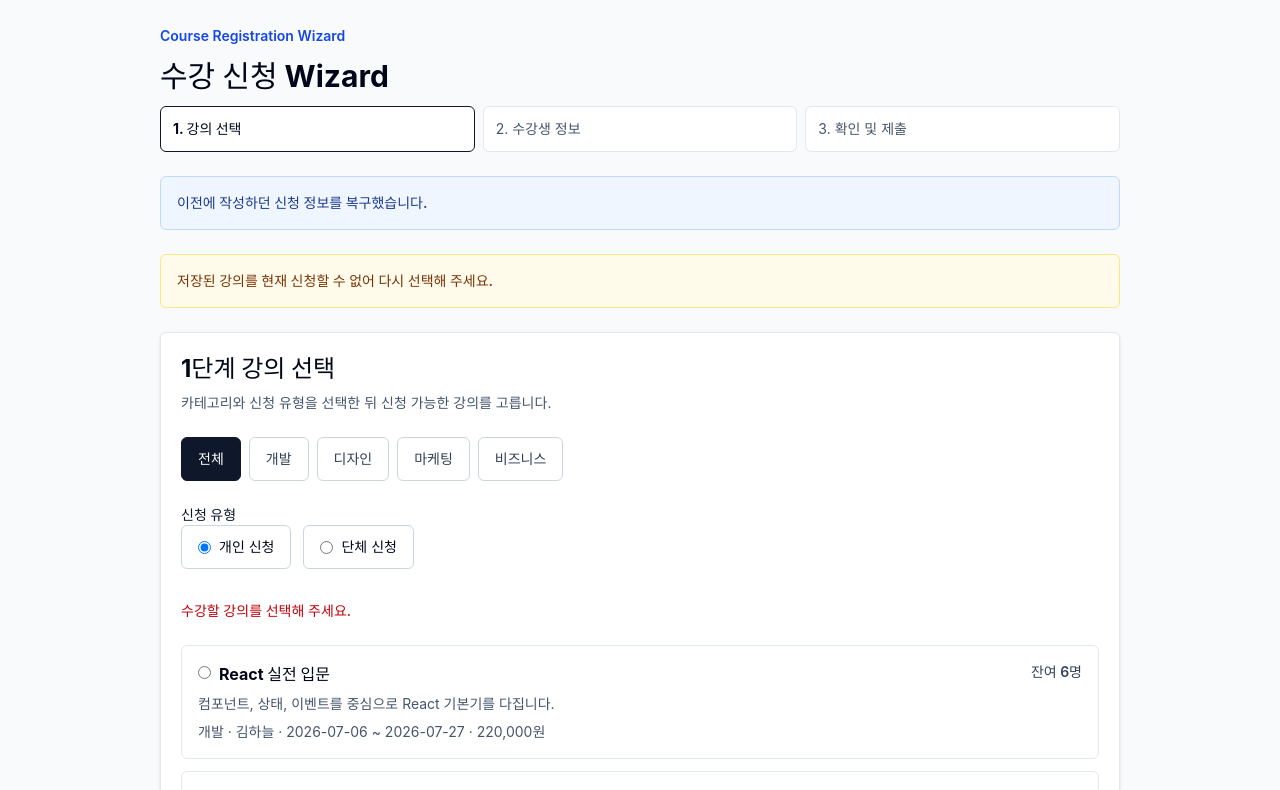
Test: EnrollmentWizardPage › 복구된 선택 강의가 현재 목록에 없으면 1단계로 이동하고 신청자 입력값은 유지한다
This screenshot has width=1280, height=790.
Expected: the text "저장된 강의를 현재 신청할 수 없어 다시 선택해 주세요." is shown, 160,254 -> 1120,308
Expected: the heading "1단계 강의 선택" is shown, 181,354 -> 335,383
Click the radio button labelled "React 실전 입문": (204, 672) 198,666 -> 211,679
(page scrolled)
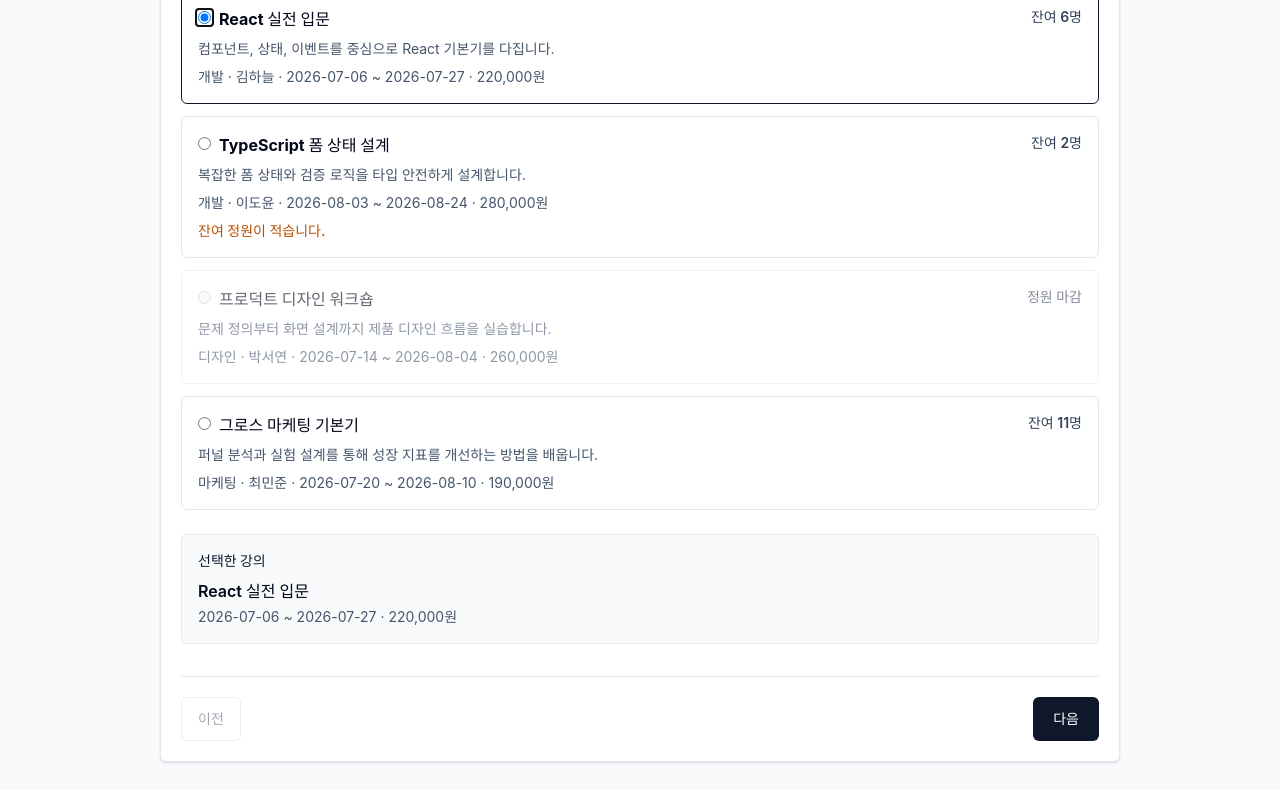
Click the button "다음": (1066, 719) 1033,697 -> 1099,741
(page scrolled)
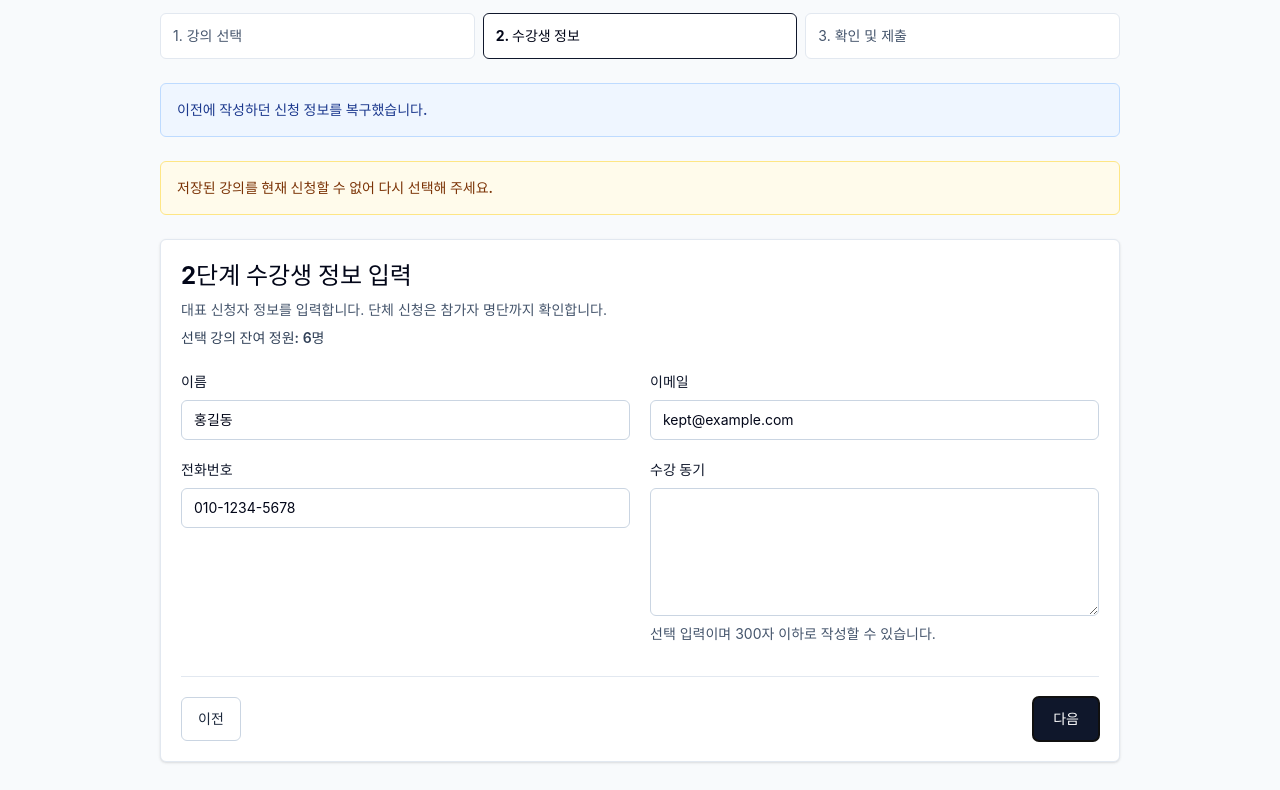
Result: the field labelled "이메일" holds "kept@example.com" at 650,400 -> 1099,440
